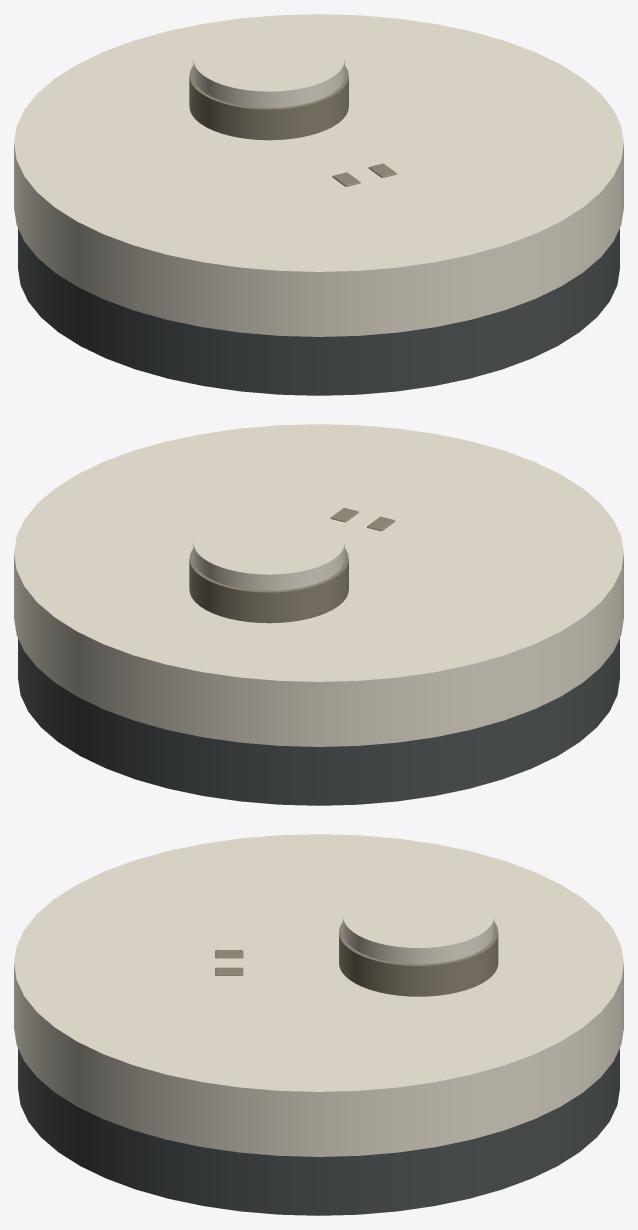
Rendered from family-robot-vacuum-v1.glb.
The picture shows the model from 3 angles, top to bottom: view 1: azimuth 30°, elevation 25°; view 2: azimuth 150°, elevation 25°; view 3: azimuth 270°, elevation 25°; orthographic projection.
Parts seen in each view (by area): view 1: Ivory shell, Soft bumper, Lidar cover, Lidar ring; view 2: Ivory shell, Soft bumper, Lidar cover, Lidar ring; view 3: Ivory shell, Soft bumper, Lidar cover, Lidar ring.
Boxes of the visible parts, x1,y1,x2,y2 form: Ivory shell: [14, 14, 623, 336]; Soft bumper: [18, 228, 619, 395]; Lidar cover: [193, 27, 344, 107]; Lidar ring: [189, 66, 348, 140]; Ivory shell: [14, 424, 623, 746]; Soft bumper: [18, 638, 619, 805]; Lidar cover: [193, 510, 344, 590]; Lidar ring: [189, 549, 348, 623]; Ivory shell: [14, 834, 623, 1156]; Soft bumper: [18, 1048, 619, 1215]; Lidar cover: [343, 884, 494, 964]; Lidar ring: [339, 922, 498, 996].
Bounding box in the file's own units: 0.306 × 0.0955 × 0.306.
